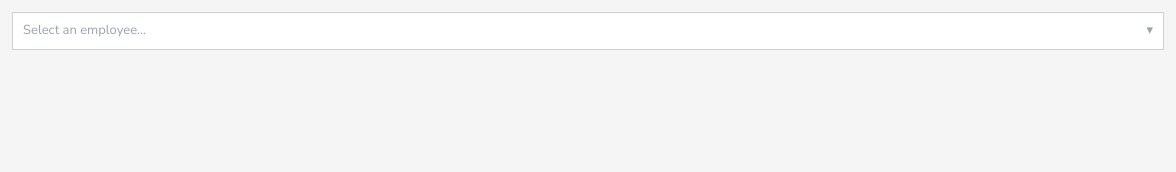
Test: ambiguous directory identities cannot be selected and labels preserve saved departments
Later steps or results of the test are not shown.
What coordinates should you click on to do the following:
click the button "Select an employee... ▾"
I would click on:
 (84, 30)
Its box is [12,12,1164,50].
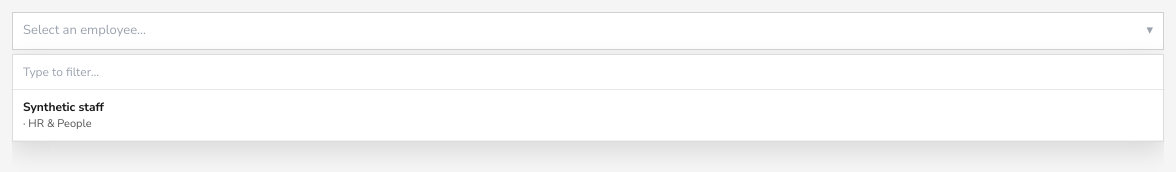
Check: the text "HR & People" is shown, box [28,116,92,130]
